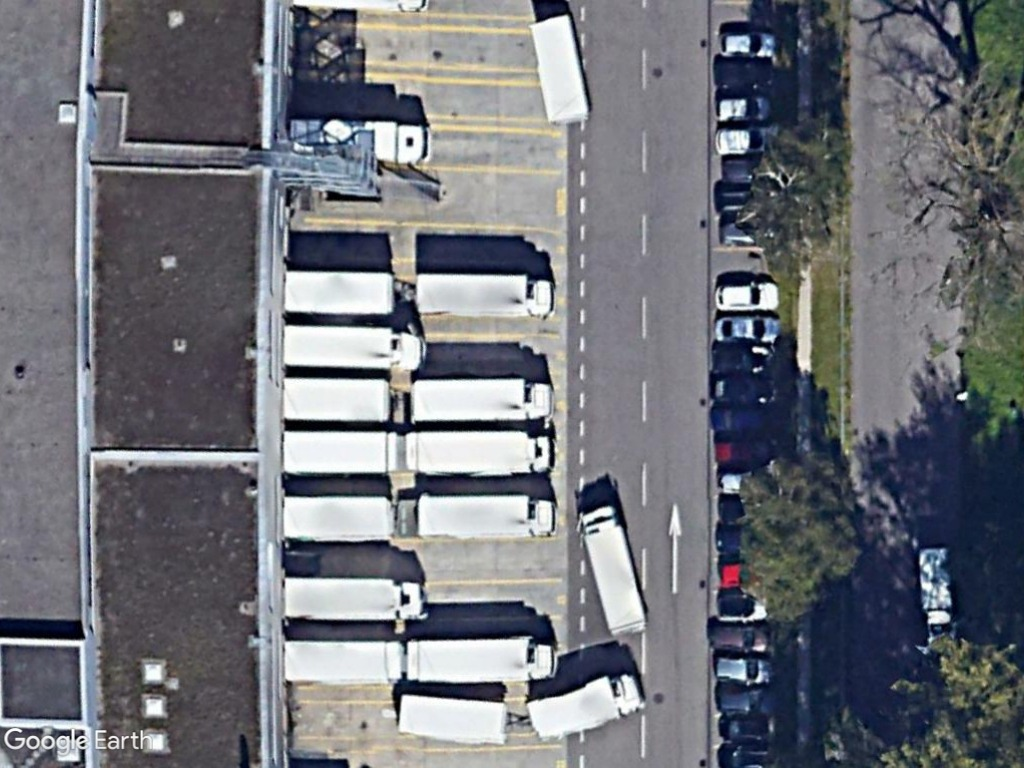car: (713, 311, 783, 345), (714, 280, 782, 313), (712, 92, 773, 125), (715, 30, 777, 59)
truck: (575, 500, 648, 636), (526, 667, 650, 745), (281, 572, 429, 625), (411, 270, 557, 321), (409, 375, 555, 425), (283, 268, 417, 321), (283, 324, 428, 372), (417, 492, 559, 540), (416, 428, 553, 477), (417, 636, 558, 683), (282, 376, 409, 428), (282, 493, 415, 541), (281, 429, 407, 478), (282, 637, 406, 685)
